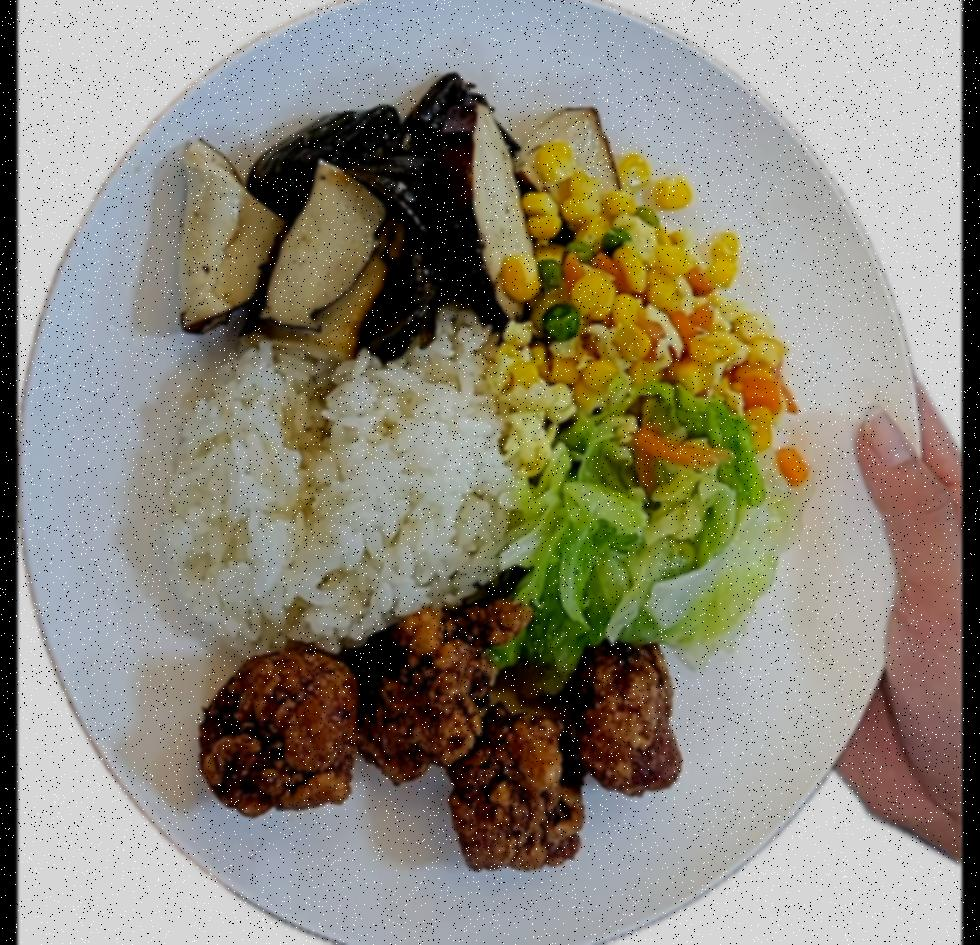big fried chicken leg: (17, 0, 930, 945)
big herbal chicken leg: (162, 309, 528, 654)
braised fish fillet: (169, 75, 620, 355), (501, 404, 808, 678), (508, 155, 798, 439)
braised pork: (191, 580, 688, 874)
